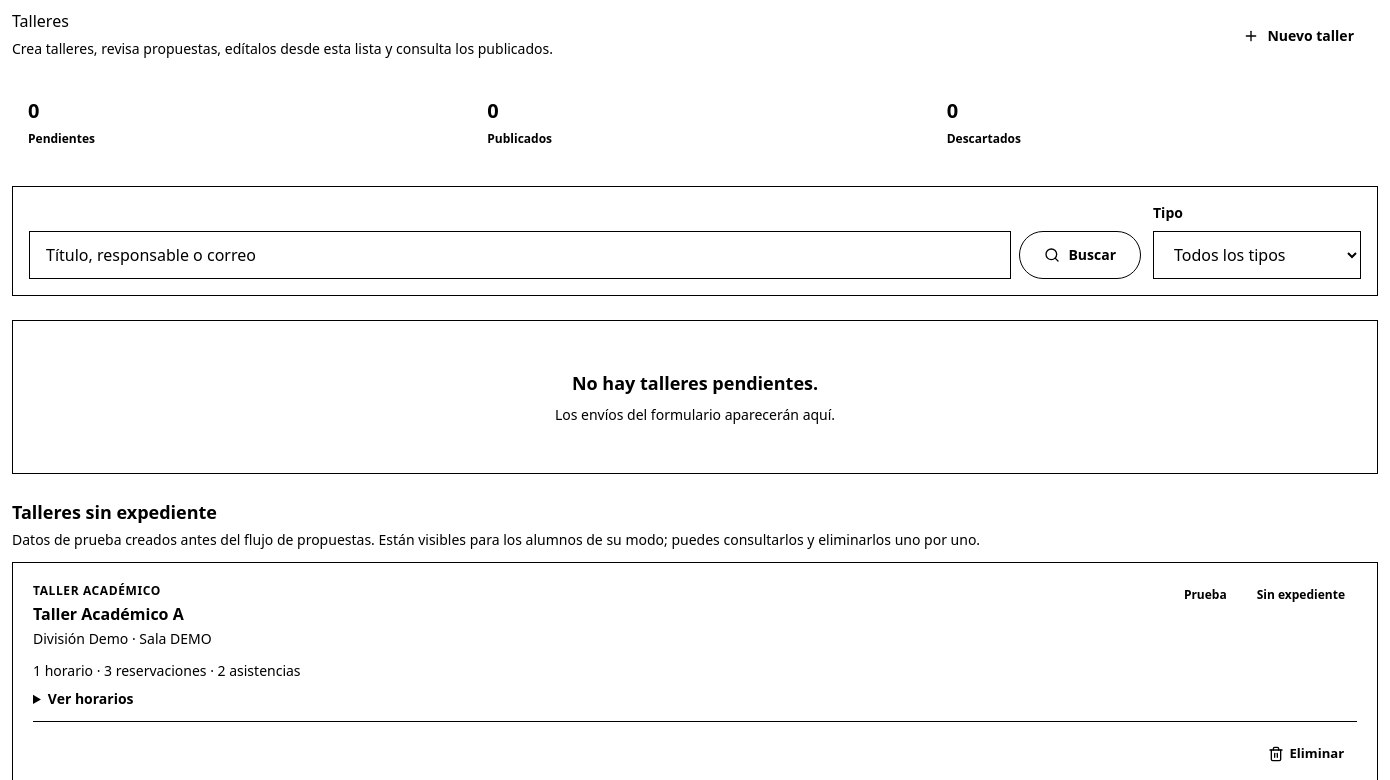
the type filter of the inbox also narrows this list
Select "Vida Universitaria" in the dropdown labelled "Tipo": (1257, 255) x1=1153 y1=231 x2=1361 y2=279
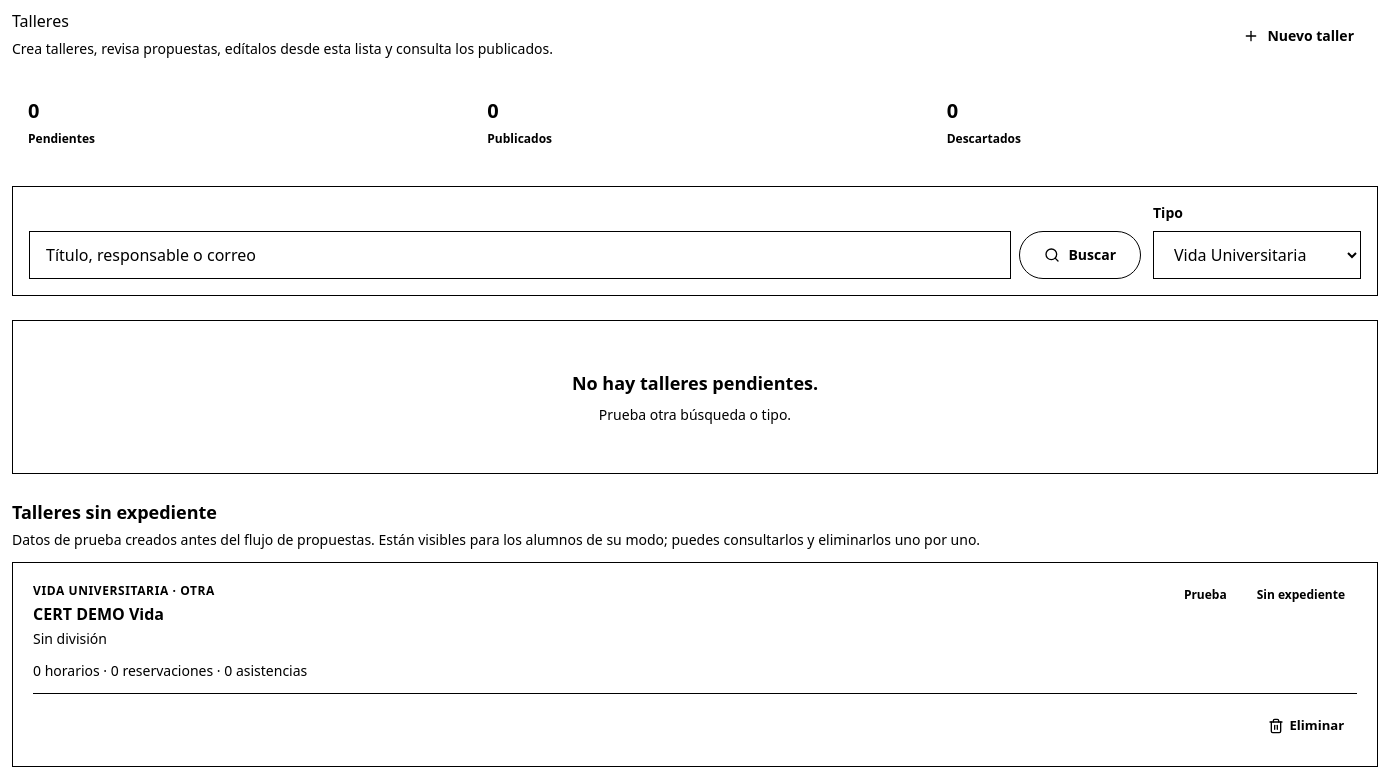
Now the headings read "CERT DEMO Vida", in this order, box x1=33 y1=603 x2=164 y2=625
